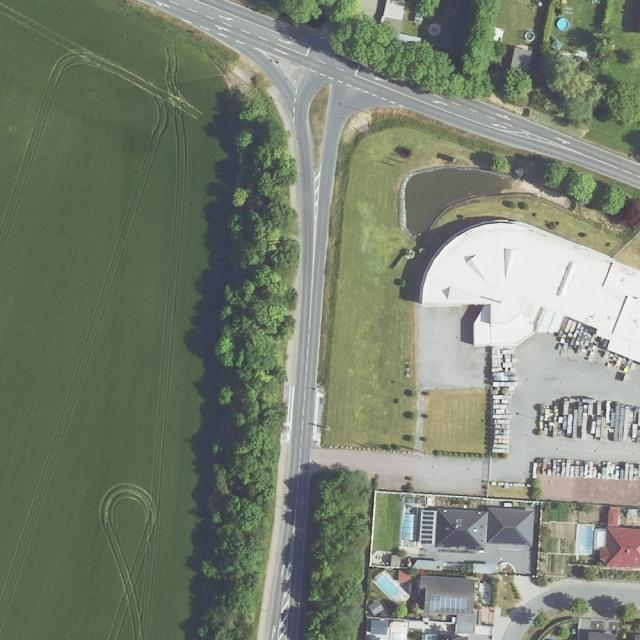PV: (440, 530, 480, 548), (430, 596, 466, 614), (491, 528, 525, 544), (421, 511, 434, 544)
